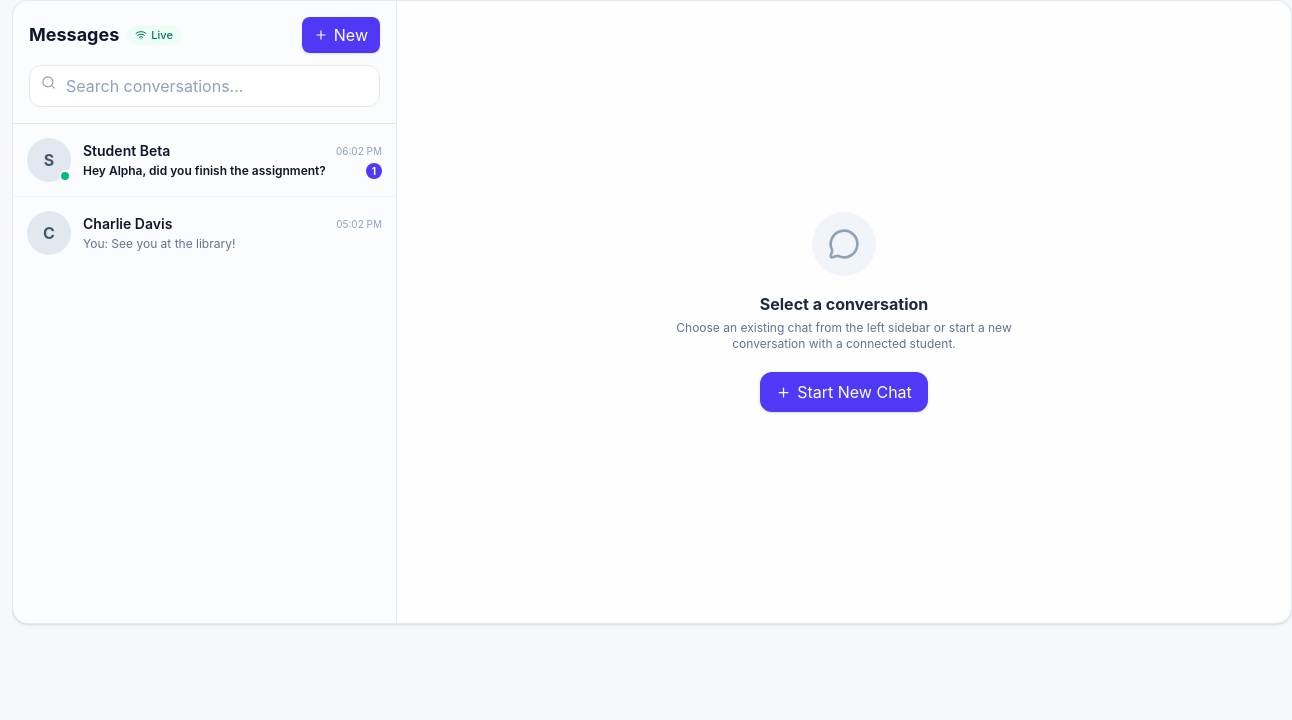
Messages Page › opens conversation on click, displays messages with sent/read checkmarks, and auto-marks as read
Click on Student Beta conversation
Click the text "Student Beta". click: (127, 151)
box: [83,141,170,161]
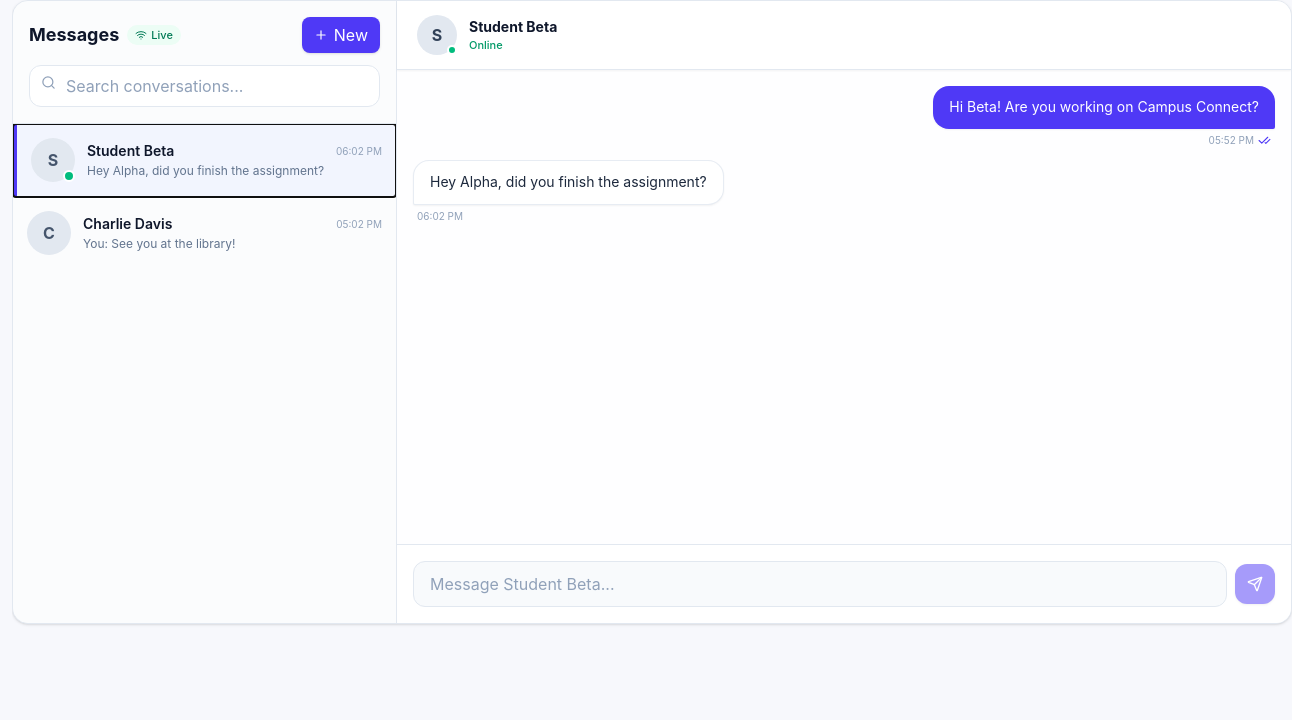
Now the text "Hi Beta! Are you working on Campus Connect?" is shown, box [949,96,1259,119]
